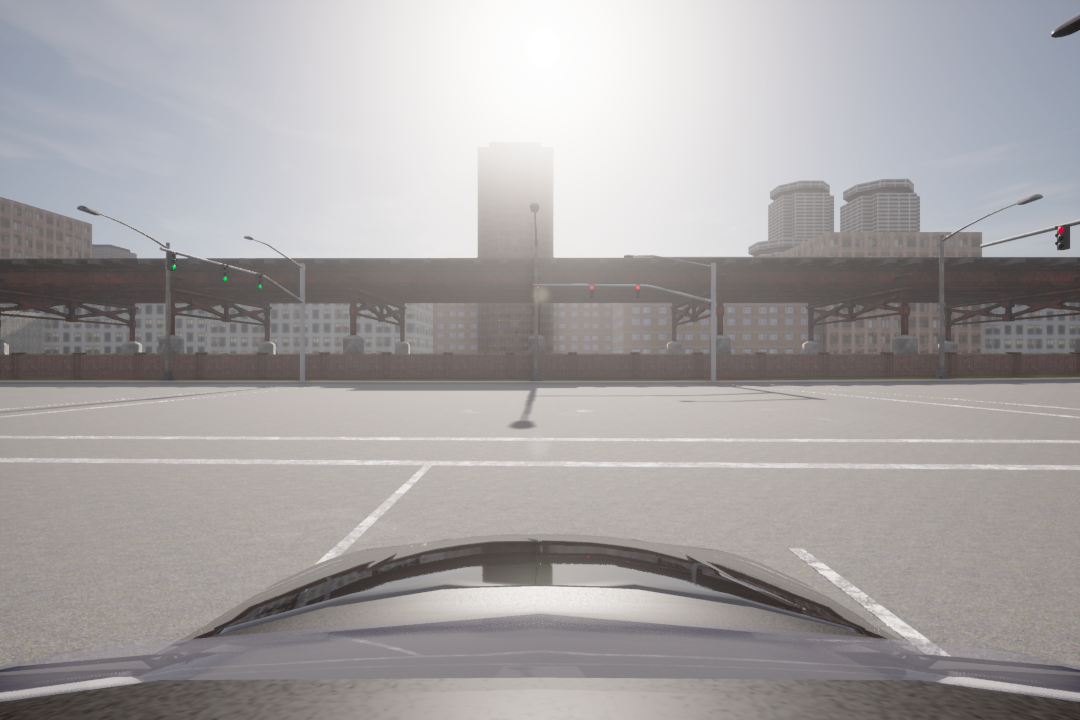TrafficLight: (1050, 221, 1074, 251), (165, 249, 178, 272), (219, 261, 229, 283), (253, 272, 263, 294), (587, 281, 597, 298), (634, 280, 642, 301)
